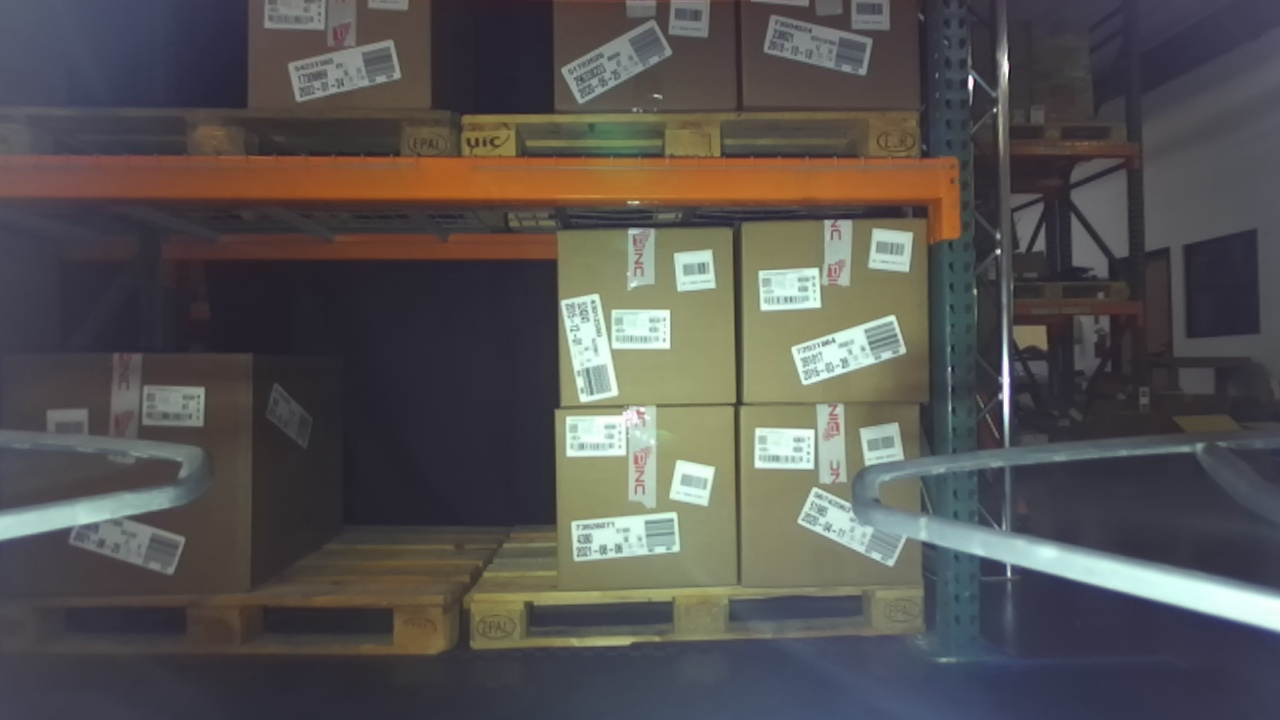box: (1, 332, 272, 614), (718, 197, 943, 427), (536, 212, 762, 437), (533, 391, 763, 608), (725, 388, 943, 616), (221, 4, 455, 134)
